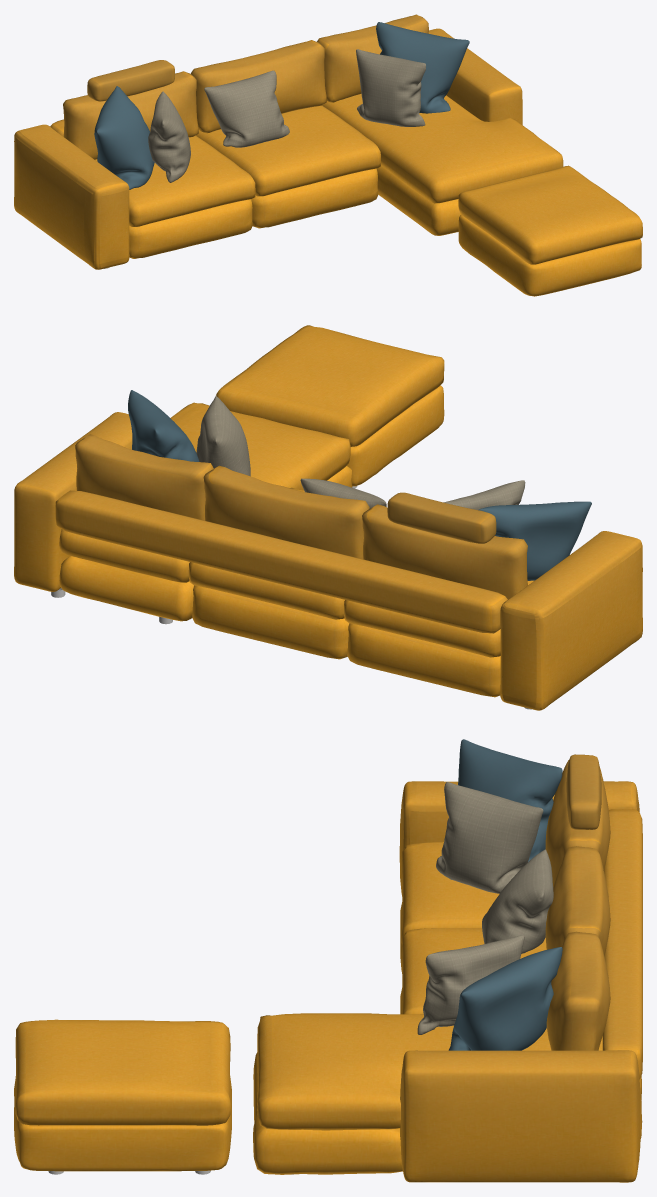
Rendered from sofa_yellow.gltf.
3 renders of one model, top to bottom at view 1: azimuth 30°, elevation 25°; view 2: azimuth 150°, elevation 25°; view 3: azimuth 270°, elevation 25°, orthographic. The views are drawn at different scales.
Visible parts, largest first — view 1: sofa; view 2: sofa; view 3: sofa.
Part boxes in pixels (x1,y1,x2,y2): sofa: (14,14,642,296); sofa: (14,325,642,710); sofa: (14,739,642,1182).
Size of the model in its own units: 3.16 by 0.9398 by 2.83.
Materials: 1 (1 with a texture image).
